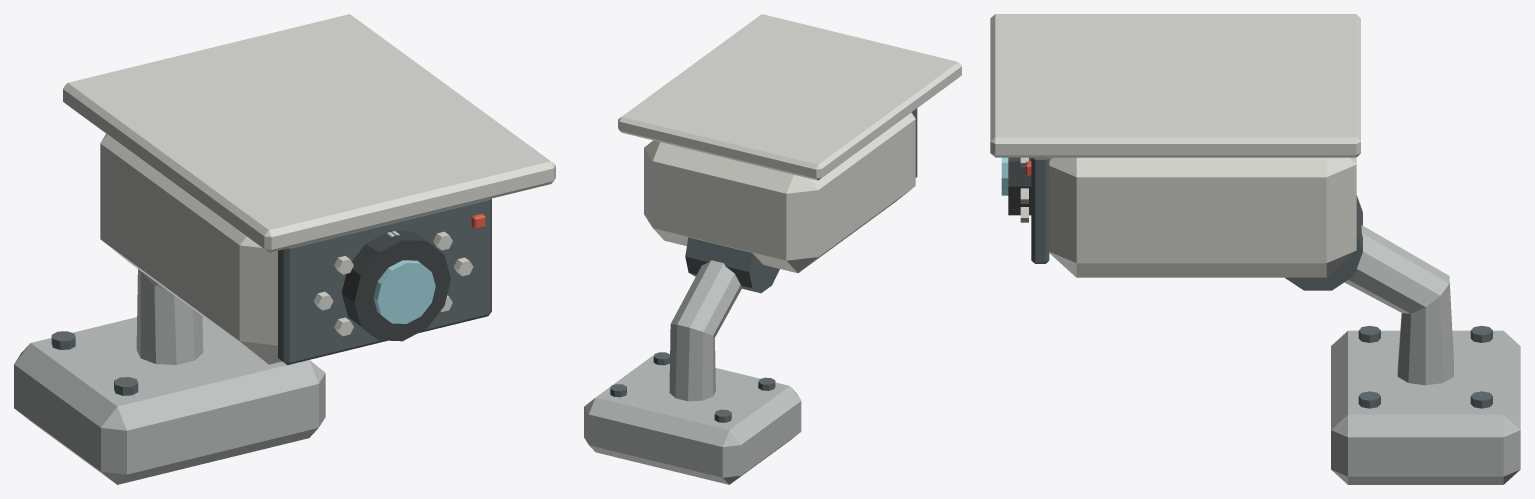
The model's file is Security_Camera.fbx.
3 renders of one model, left to right at view 1: azimuth 30°, elevation 25°; view 2: azimuth 150°, elevation 25°; view 3: azimuth 270°, elevation 25°, orthographic. The views are drawn at different scales.
Visible parts, largest first — view 1: Security_Camera__LPCXFER; view 2: Security_Camera__LPCXFER; view 3: Security_Camera__LPCXFER.
Boxes of the visible parts, x1,y1,x2,y2 form: Security_Camera__LPCXFER: (14,14,555,484); Security_Camera__LPCXFER: (584,14,961,484); Security_Camera__LPCXFER: (990,14,1520,484).
Bounding box in the file's own units: 35 × 47 × 61.5.
